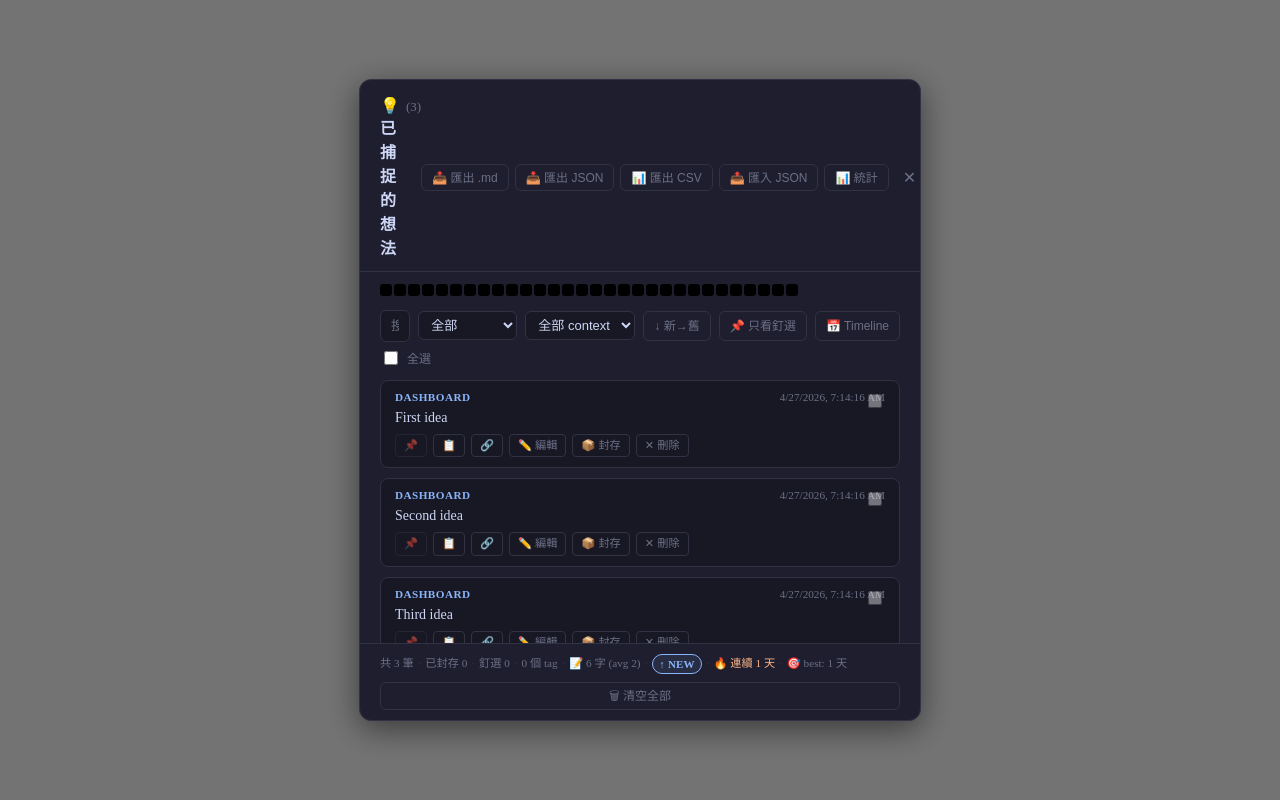
Test: QuickCaptureList — bulk select › bulk delete with confirmed dialog removes selected captures
The width and height of the screenshot is (1280, 800).
Click the checkbox named "選取：First idea" at coordinates (875, 400), box [868,394,882,408]
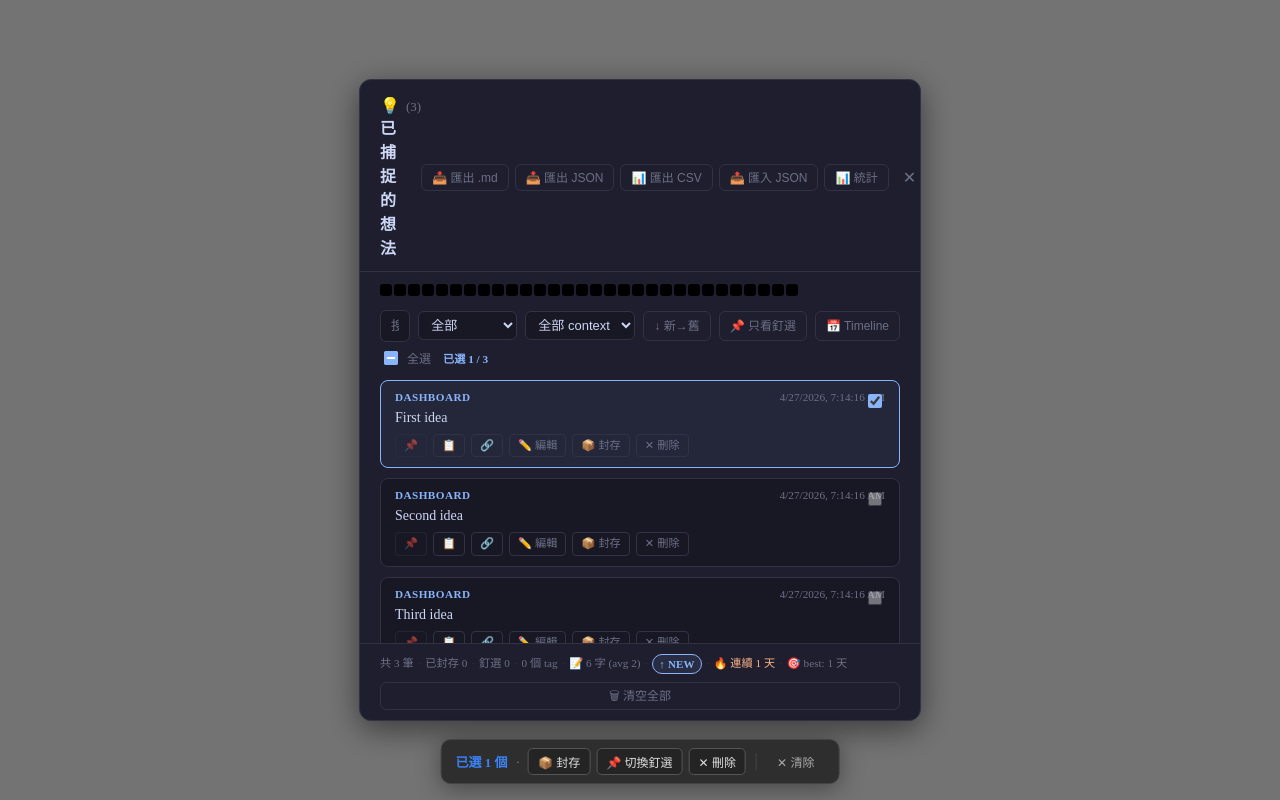
Click the checkbox named "選取：Second idea" at coordinates (875, 499), box [868,492,882,506]
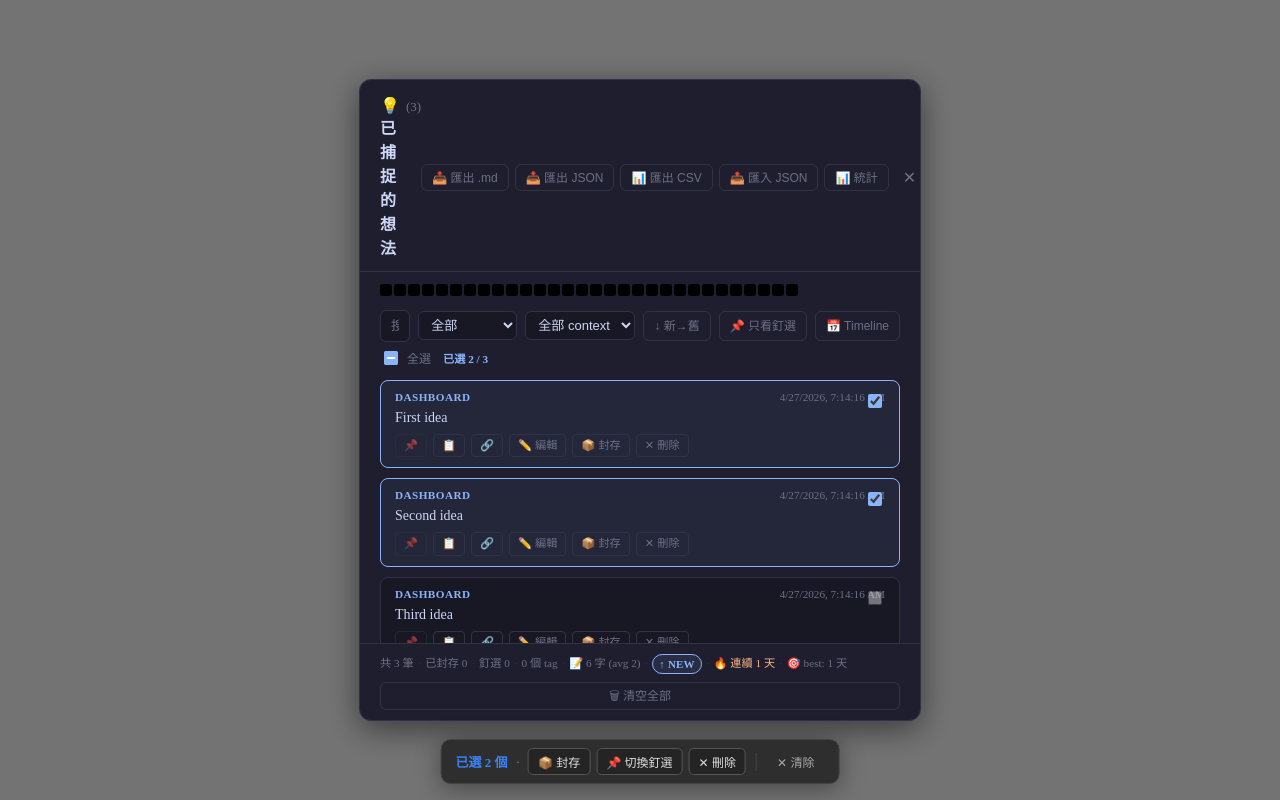
Check: the button "✕ 刪除" in the row of "已選 2 個" is shown
Check: the text "已選 2 / 3" is shown, box [443,350,488,366]
Click the button "✕ 刪除" in the row of "已選 2 個" at coordinates (717, 762), box [689,748,746,775]
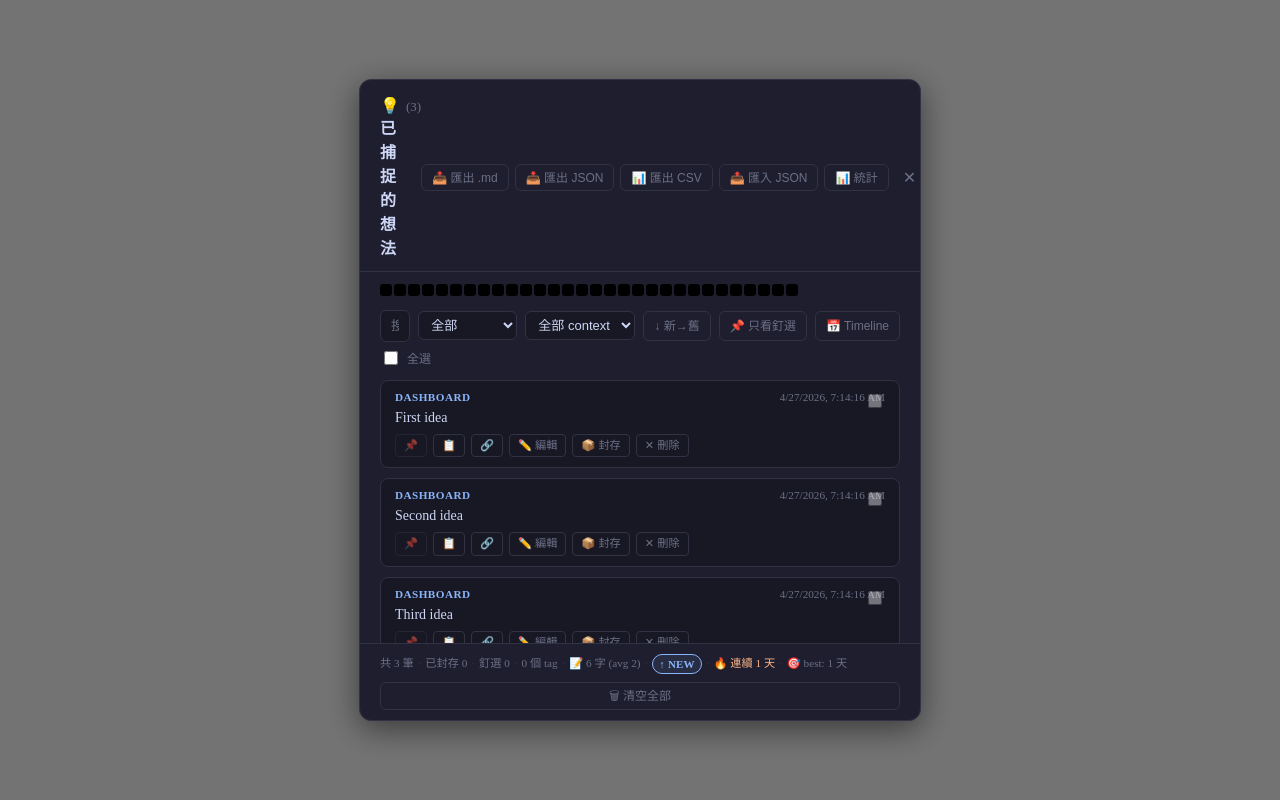
Check: the element with test id "capture-bulk-action-bar" is gone
